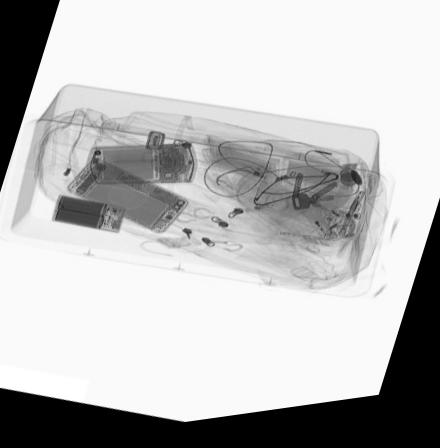Lighter: (299, 212, 341, 251)
